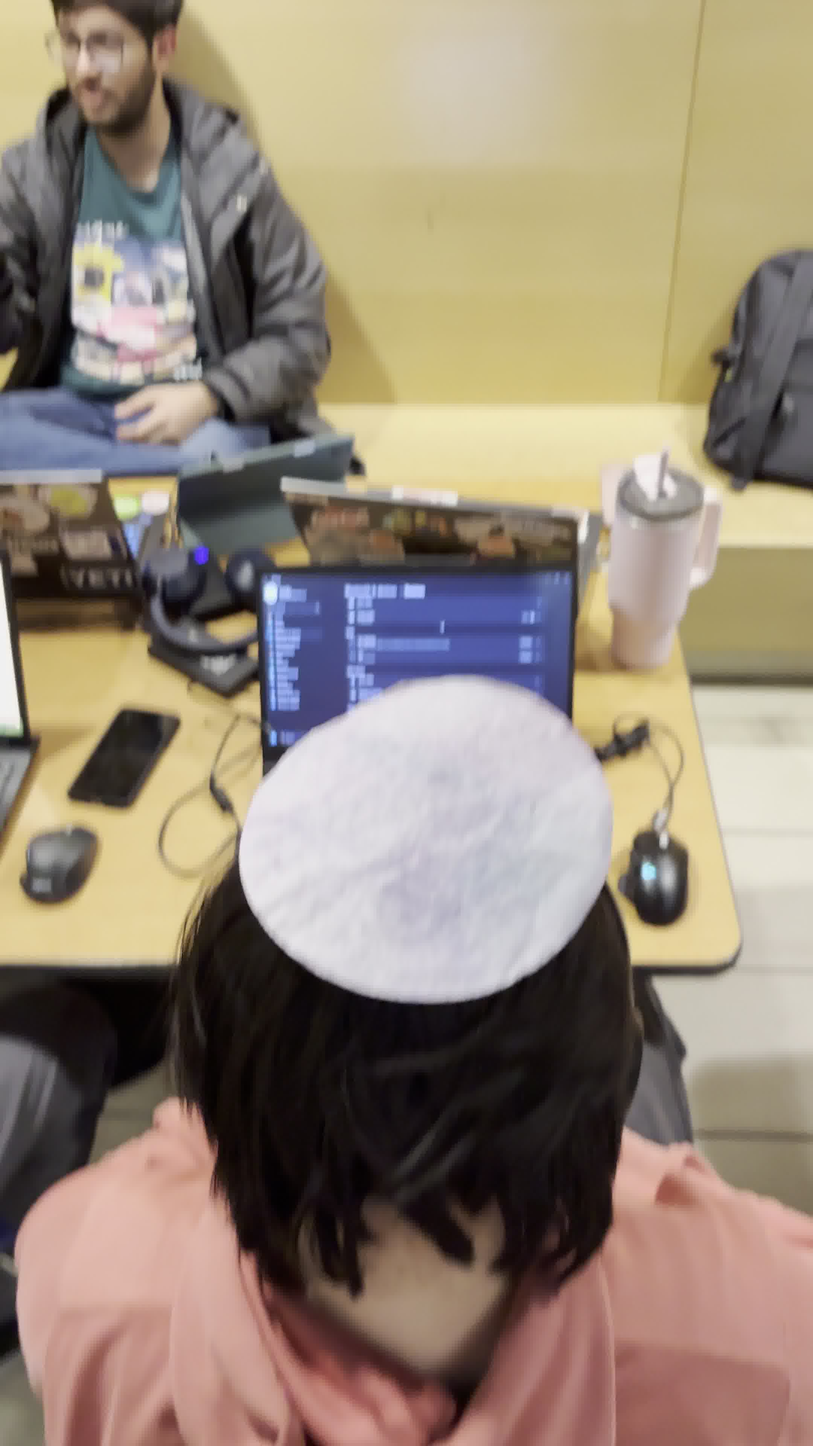Target: (239, 673, 613, 1002)
